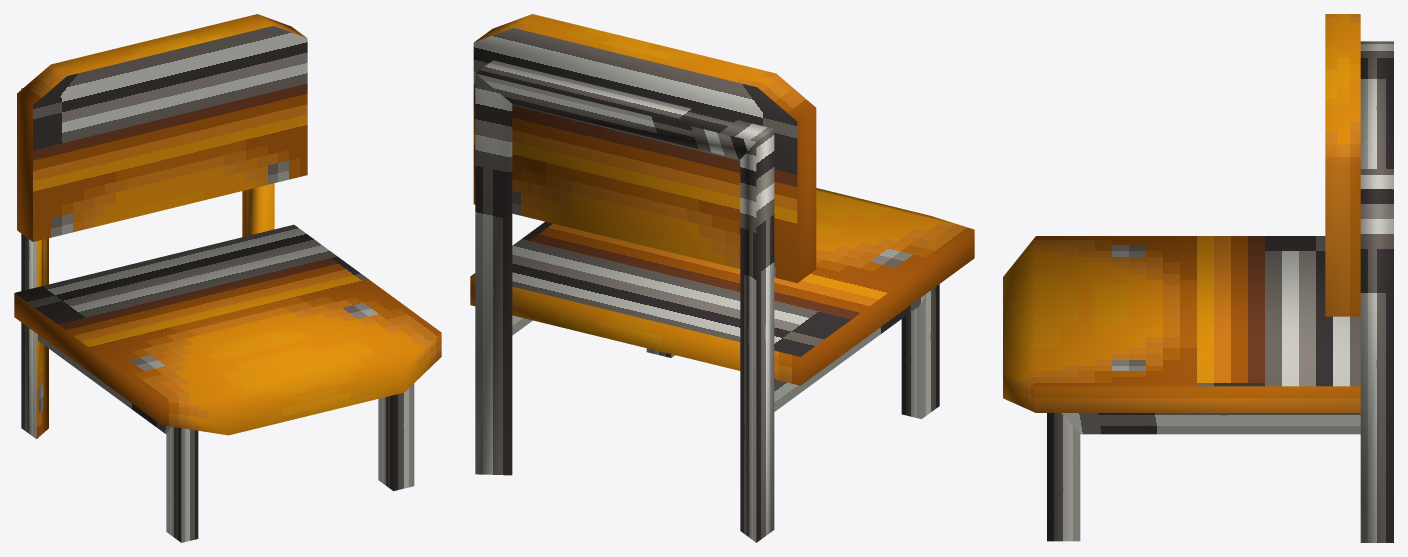
The picture shows the model from 3 angles, left to right: view 1: azimuth 30°, elevation 25°; view 2: azimuth 150°, elevation 25°; view 3: azimuth 270°, elevation 25°; orthographic projection. The views are drawn at different scales.
Visible parts, largest first — view 1: 3457IMSL01_06; view 2: 3457IMSL01_06; view 3: 3457IMSL01_06.
Part boxes in pixels (x1=…): 3457IMSL01_06: x1=14, y1=14, x2=441, y2=542; 3457IMSL01_06: x1=470, y1=14, x2=974, y2=542; 3457IMSL01_06: x1=1003, y1=14, x2=1393, y2=542.
Size of the model in its own units: 0.8481 by 1.08 by 0.9326.
Materials: 1 (1 with a texture image).
